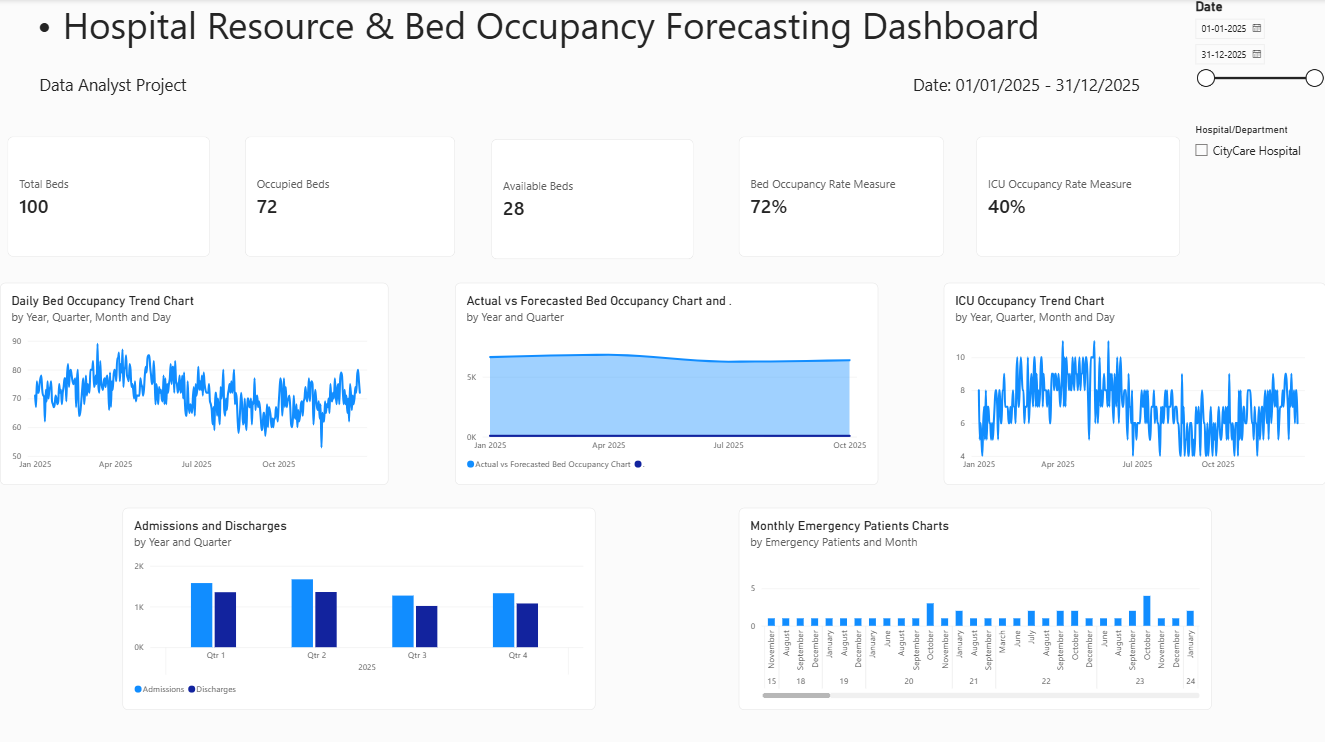

The page's visual inventory and layout, read from the dashboard file:
{"tool":"powerbi","page":{"name":"Page 1","canvas":[1920,1080],"ordinal":0},"visuals":[{"type":"textbox","box":[10.9,0,1697.3,181.5],"z":0},{"type":"cardVisual","fields":{"Data":["Cleaned_Hospital_Data.Total Beds Measure"]},"box":[10.9,199,293.1,175],"z":1000},{"type":"cardVisual","fields":{"Data":["Cleaned_Hospital_Data.Occupied Bed Measure"]},"box":[354.3,199,304,175],"z":2000},{"type":"cardVisual","fields":{"Data":["Cleaned_Hospital_Data.Available Beds Measure"]},"box":[710.9,203.4,293.1,175],"z":3000},{"type":"cardVisual","fields":{"Data":["Cleaned_Hospital_Data.Bed Occupancy Rate Measure"]},"box":[1069.6,199,297.5,175],"z":4000},{"type":"cardVisual","fields":{"Data":["Cleaned_Hospital_Data.ICU Occupancy Rate Measure"]},"box":[1413,199,295.3,175],"z":5000},{"type":"lineChart","fields":{"Category":["Cleaned_Hospital_Data.Date.Variation.Date Hierarchy.Year","Cleaned_Hospital_Data.Date.Variation.Date Hierarchy.Quarter","Cleaned_Hospital_Data.Date.Variation.Date Hierarchy.Month","Cleaned_Hospital_Data.Date.Variation.Date Hierarchy.Day"],"Y":["Sum(Cleaned_Hospital_Data.Occupied Beds)"]},"box":[10.1,410.8,552.4,293.4],"z":6000},{"type":"areaChart","fields":{"Category":["Cleaned_Hospital_Data.Date.Variation.Date Hierarchy.Year","Cleaned_Hospital_Data.Date.Variation.Date Hierarchy.Quarter","Cleaned_Hospital_Data.Date.Variation.Date Hierarchy.Month","Cleaned_Hospital_Data.Date.Variation.Date Hierarchy.Day"],"Y":["Sum(Cleaned_Hospital_Data.Occupied Beds)","Cleaned_Hospital_Data.7-Day Occupancy Average"]},"box":[658.4,411.2,612.4,293.1],"z":7000},{"type":"lineChart","fields":{"Category":["Cleaned_Hospital_Data.Date.Variation.Date Hierarchy.Year","Cleaned_Hospital_Data.Date.Variation.Date Hierarchy.Quarter","Cleaned_Hospital_Data.Date.Variation.Date Hierarchy.Month","Cleaned_Hospital_Data.Date.Variation.Date Hierarchy.Day"],"Y":["Sum(Cleaned_Hospital_Data.ICU Occupied)"]},"box":[1367.7,411.5,538.6,292.5],"z":8000},{"type":"lineClusteredColumnComboChart","fields":{"Category":["Cleaned_Hospital_Data.Date.Variation.Date Hierarchy.Year","Cleaned_Hospital_Data.Date.Variation.Date Hierarchy.Quarter","Cleaned_Hospital_Data.Date.Variation.Date Hierarchy.Month","Cleaned_Hospital_Data.Date.Variation.Date Hierarchy.Day"],"Y":["Sum(Cleaned_Hospital_Data.Admissions)","Sum(Cleaned_Hospital_Data.Discharges)"]},"box":[177.2,737.1,684.6,293.1],"z":9000},{"type":"clusteredColumnChart","fields":{"Category":["Cleaned_Hospital_Data.Emergency Patients","Cleaned_Hospital_Data.Date.Variation.Date Hierarchy.Month"],"Y":["CountNonNull(Cleaned_Hospital_Data.Date)"]},"box":[1069.6,737.1,684.6,293.1],"z":10000},{"type":"slicer","fields":{"Values":["Cleaned_Hospital_Data.Date"]},"box":[1724.1,0,182.1,151.8],"z":11000},{"type":"slicer","fields":{"Values":["Cleaned_Hospital_Data.Hospital/Department"]},"box":[1724.1,182.1,182.1,204.4],"z":12000}]}

Visuals, with their boxes in screenshot pixels (x1, y1, x2, y2), scaled from the page's 1920x1080 canvas onto the 1325x742 screenshot:
textbox: [x1=8, y1=0, x2=1179, y2=125]
cardVisual - Cleaned_Hospital_Data.Total Beds Measure: [x1=8, y1=137, x2=210, y2=257]
cardVisual - Cleaned_Hospital_Data.Occupied Bed Measure: [x1=245, y1=137, x2=454, y2=257]
cardVisual - Cleaned_Hospital_Data.Available Beds Measure: [x1=491, y1=140, x2=693, y2=260]
cardVisual - Cleaned_Hospital_Data.Bed Occupancy Rate Measure: [x1=738, y1=137, x2=943, y2=257]
cardVisual - Cleaned_Hospital_Data.ICU Occupancy Rate Measure: [x1=975, y1=137, x2=1179, y2=257]
lineChart - Cleaned_Hospital_Data.Date.Variation.Date Hierarchy.Year x Cleaned_Hospital_Data.Date.Variation.Date Hierarchy.Quarter: [x1=7, y1=282, x2=388, y2=484]
areaChart - Cleaned_Hospital_Data.Date.Variation.Date Hierarchy.Year x Cleaned_Hospital_Data.Date.Variation.Date Hierarchy.Quarter: [x1=454, y1=283, x2=877, y2=484]
lineChart - Cleaned_Hospital_Data.Date.Variation.Date Hierarchy.Year x Cleaned_Hospital_Data.Date.Variation.Date Hierarchy.Quarter: [x1=944, y1=283, x2=1316, y2=484]
lineClusteredColumnComboChart - Cleaned_Hospital_Data.Date.Variation.Date Hierarchy.Year x Cleaned_Hospital_Data.Date.Variation.Date Hierarchy.Quarter: [x1=122, y1=506, x2=595, y2=708]
clusteredColumnChart - Cleaned_Hospital_Data.Emergency Patients x Cleaned_Hospital_Data.Date.Variation.Date Hierarchy.Month: [x1=738, y1=506, x2=1211, y2=708]
slicer - Cleaned_Hospital_Data.Date: [x1=1190, y1=0, x2=1315, y2=104]
slicer - Cleaned_Hospital_Data.Hospital/Department: [x1=1190, y1=125, x2=1315, y2=266]
